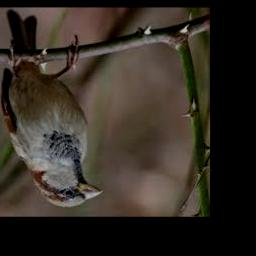Sparrow: (2, 11, 103, 207)
